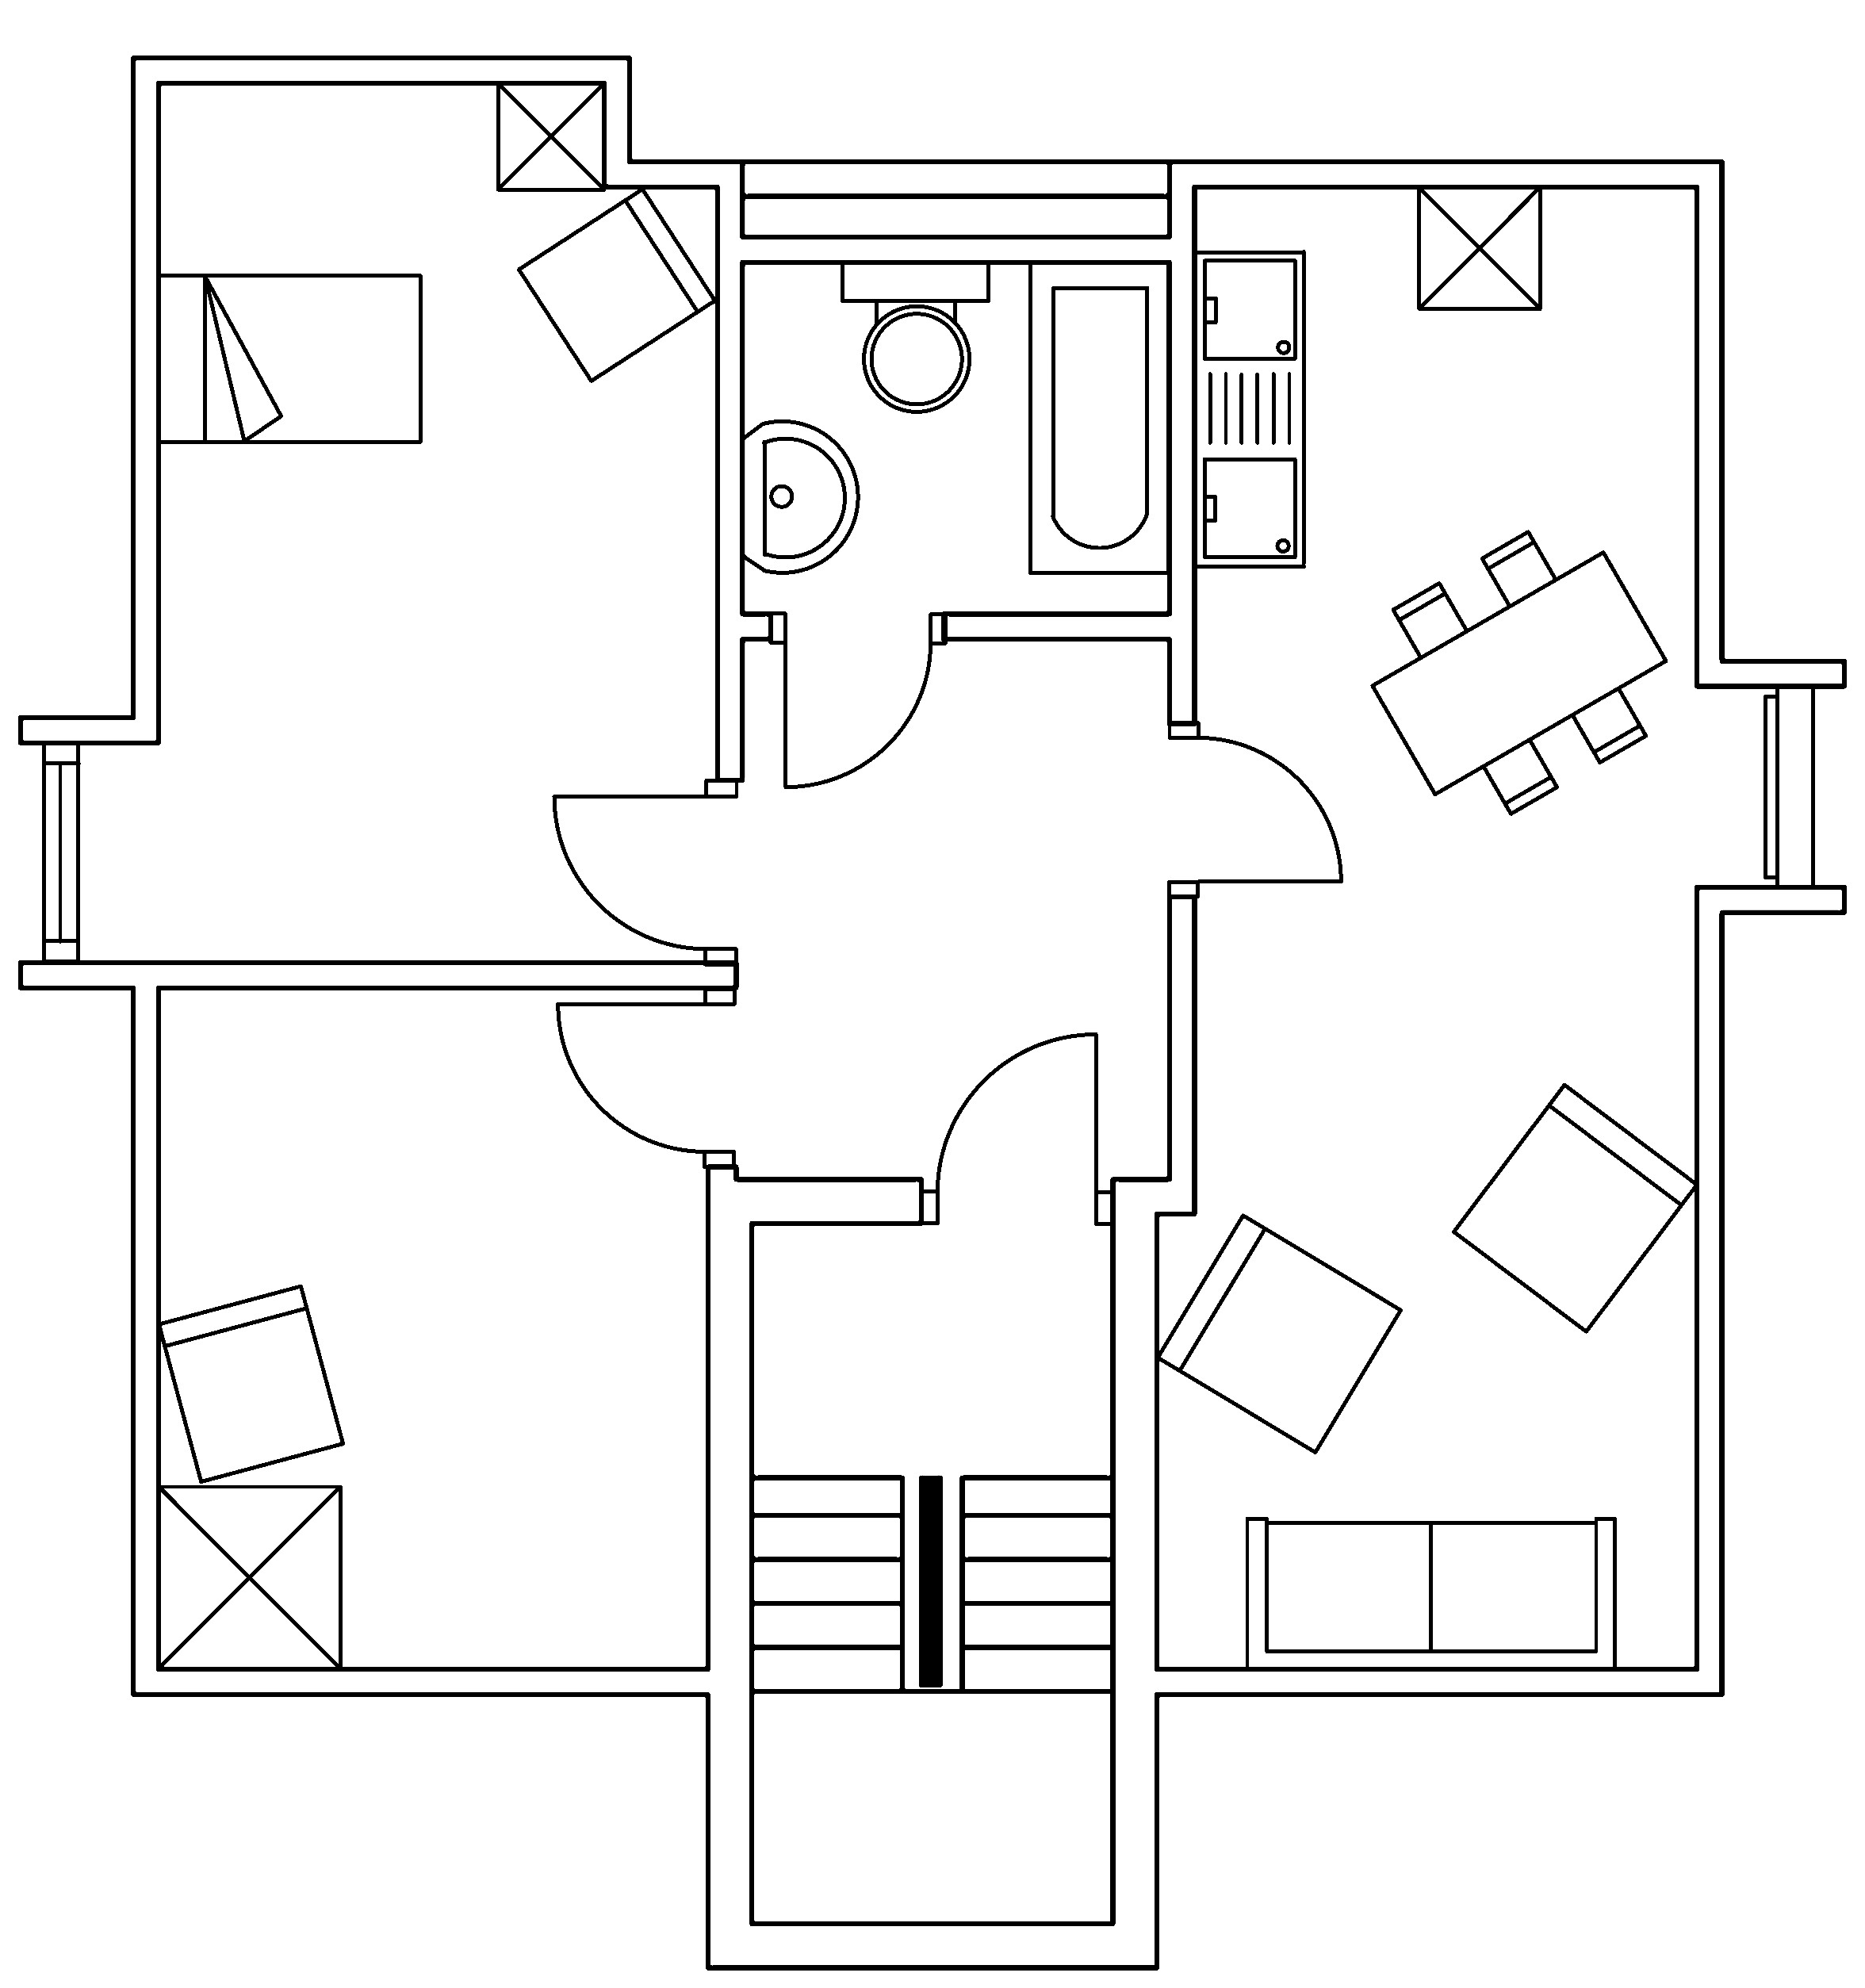bed: (154, 272, 422, 445)
coffee_table: (154, 1481, 342, 1671), (1416, 182, 1542, 310), (494, 79, 606, 191)
dining_table: (1369, 528, 1669, 815)
large_sink: (840, 258, 990, 412)
large_sofa: (1243, 1515, 1618, 1672)
small_sink: (740, 419, 859, 573)
small_sofa: (1450, 1082, 1698, 1334), (1153, 1211, 1404, 1455), (515, 186, 717, 382), (156, 1282, 345, 1483)
tub: (1027, 258, 1171, 575)
twin_sink: (1192, 247, 1308, 570)
